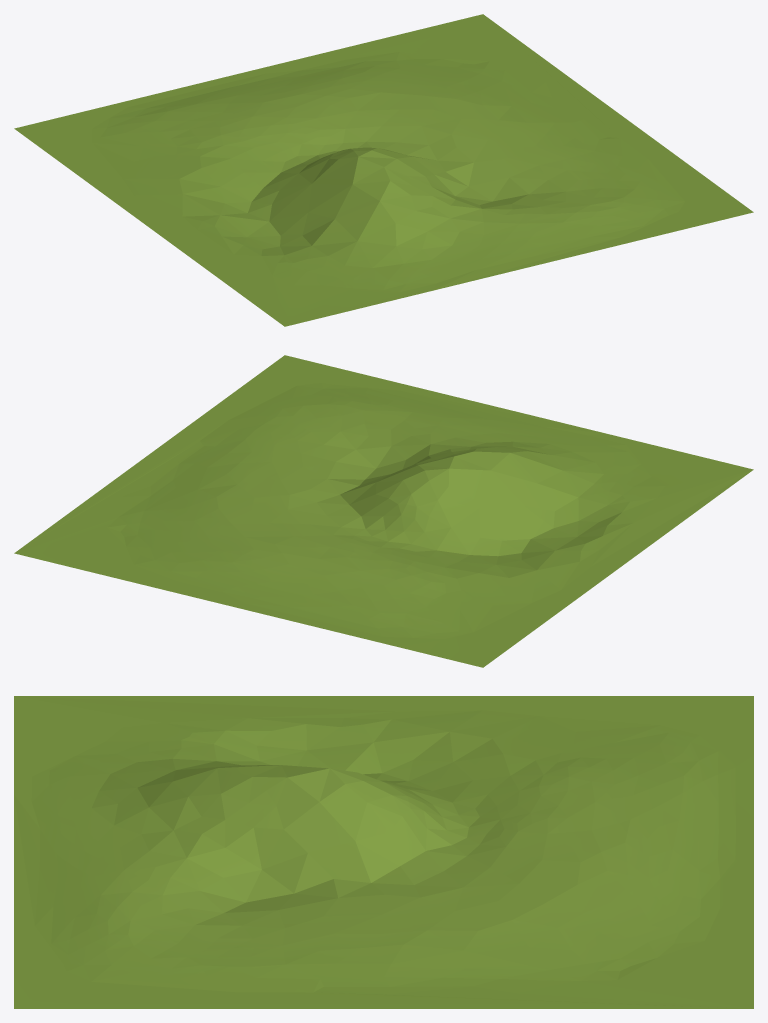
Rendered from Mesh_Landscape_Terrain_10.FBX.
3 renders of one model, top to bottom at view 1: azimuth 30°, elevation 25°; view 2: azimuth 150°, elevation 25°; view 3: azimuth 270°, elevation 25°, orthographic. The views are drawn at different scales.
Parts seen in each view (by area): view 1: Mesh_Landscape_Terrain_10; view 2: Mesh_Landscape_Terrain_10; view 3: Mesh_Landscape_Terrain_10.
Part boxes in pixels (<box>): Mesh_Landscape_Terrain_10: <box>14,14,753,326</box>; Mesh_Landscape_Terrain_10: <box>14,355,753,667</box>; Mesh_Landscape_Terrain_10: <box>14,696,753,1008</box>.
Bounding box in the file's own units: 12800 × 12800 × 1255.
